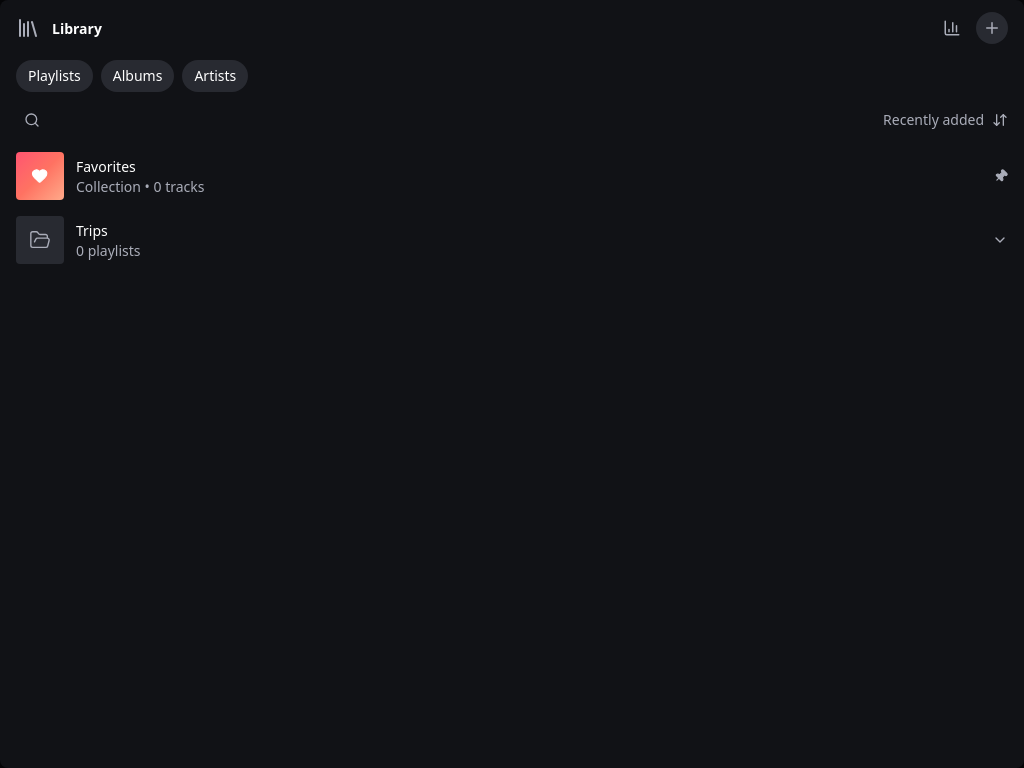
Test case: LibrarySidebar › renames a folder inline and deletes it through the context menu
Right-click the button "Trips 0 playlists" at coordinates (40, 240), box x1=8 y1=208 x2=1016 y2=272
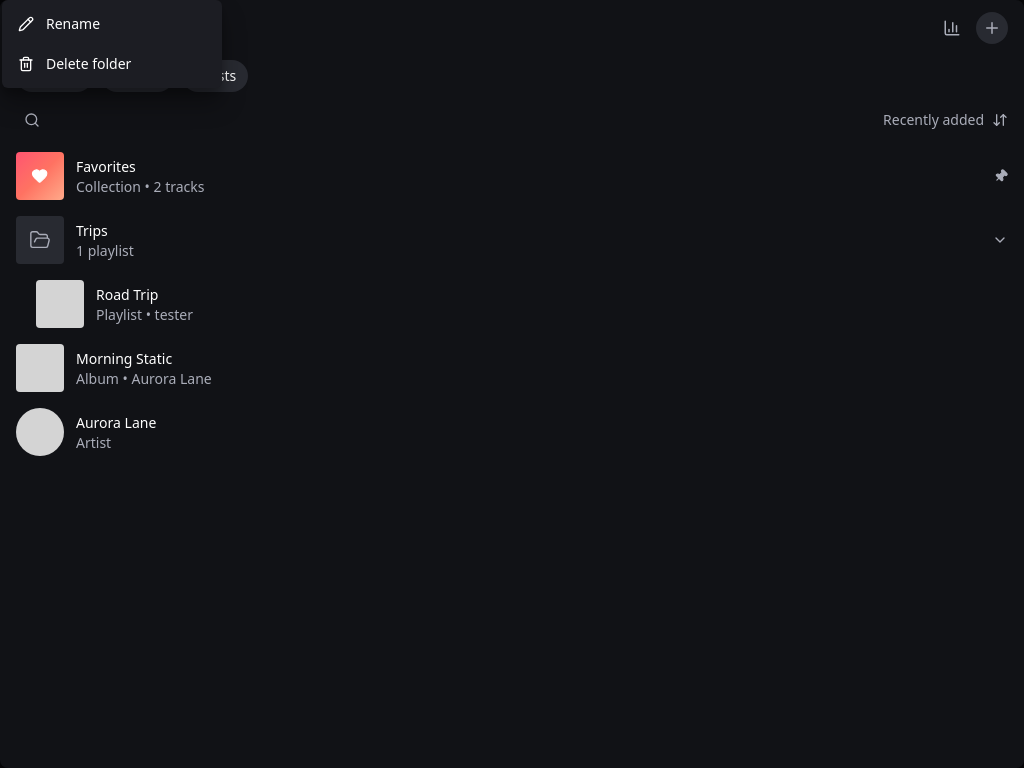
Click the menu item "Rename". click: coordinates (59, 24)
box: x1=18 y1=14 x2=100 y2=33
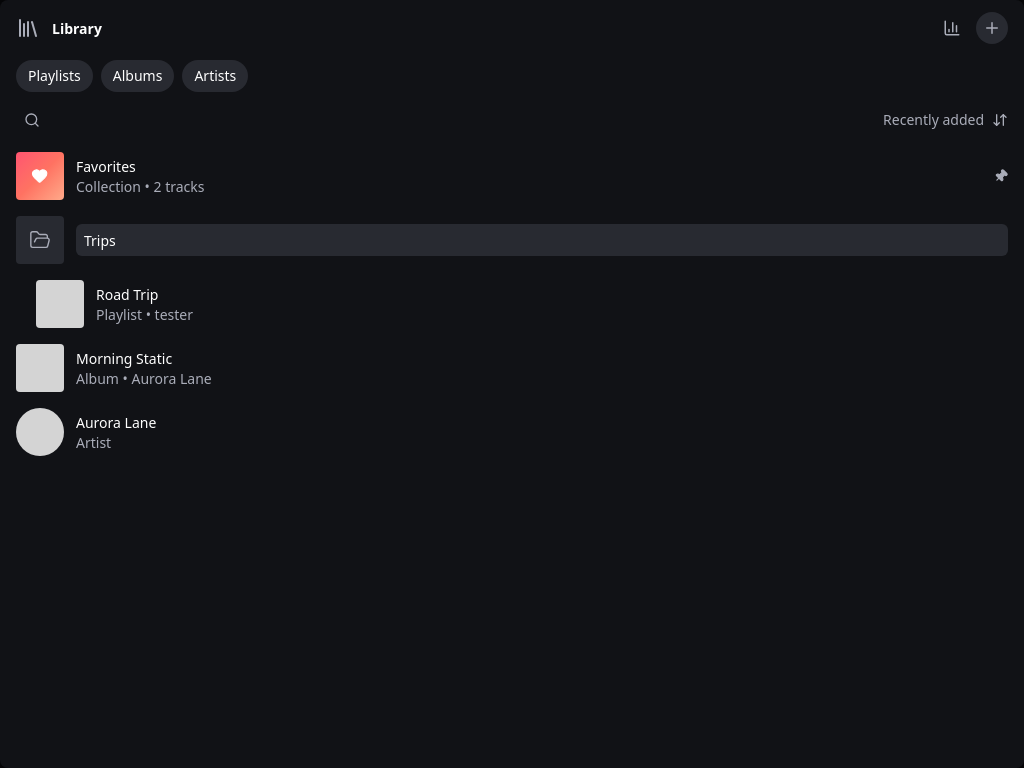
Replace the text in the field named "Folder name" with "Holidays". click: coordinates (542, 240)
box: x1=76 y1=224 x2=1008 y2=256
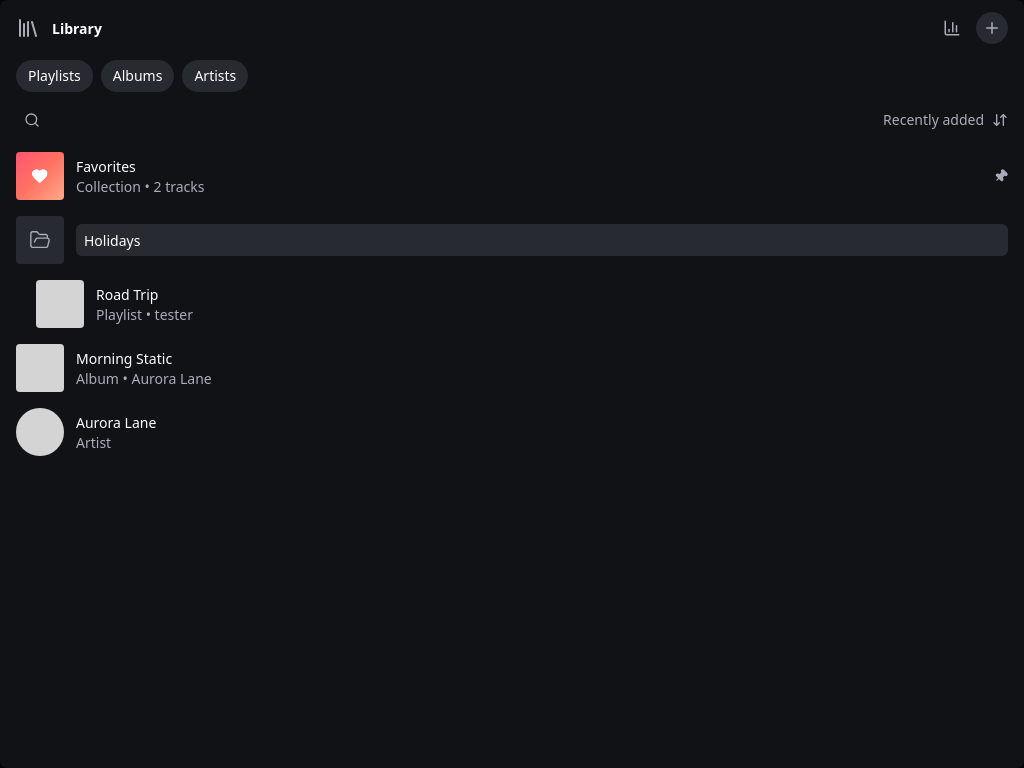
Press Enter in the field named "Folder name", box x1=76 y1=224 x2=1008 y2=256
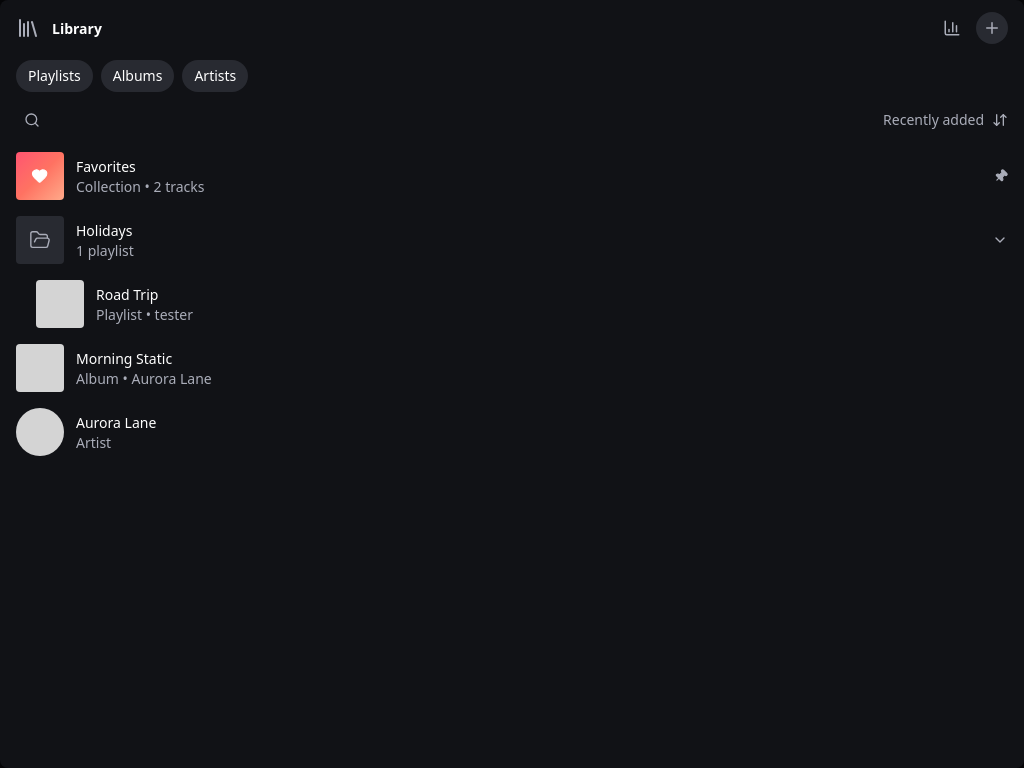
Now the button "Holidays 1 playlist" is shown
Now the text "Holidays" is shown, box x1=76 y1=220 x2=132 y2=240
Right-click the button "Holidays 1 playlist" at coordinates (40, 240), box x1=8 y1=208 x2=1016 y2=272
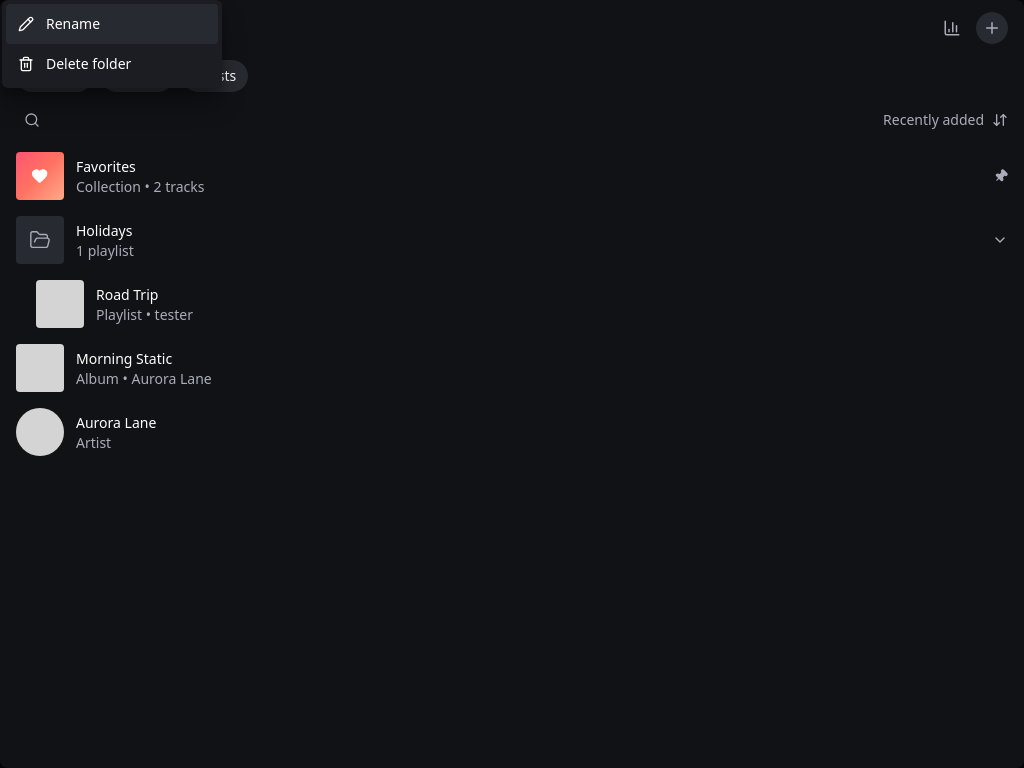
Click the menu item "Delete folder". click: coordinates (75, 64)
box: x1=18 y1=54 x2=131 y2=73
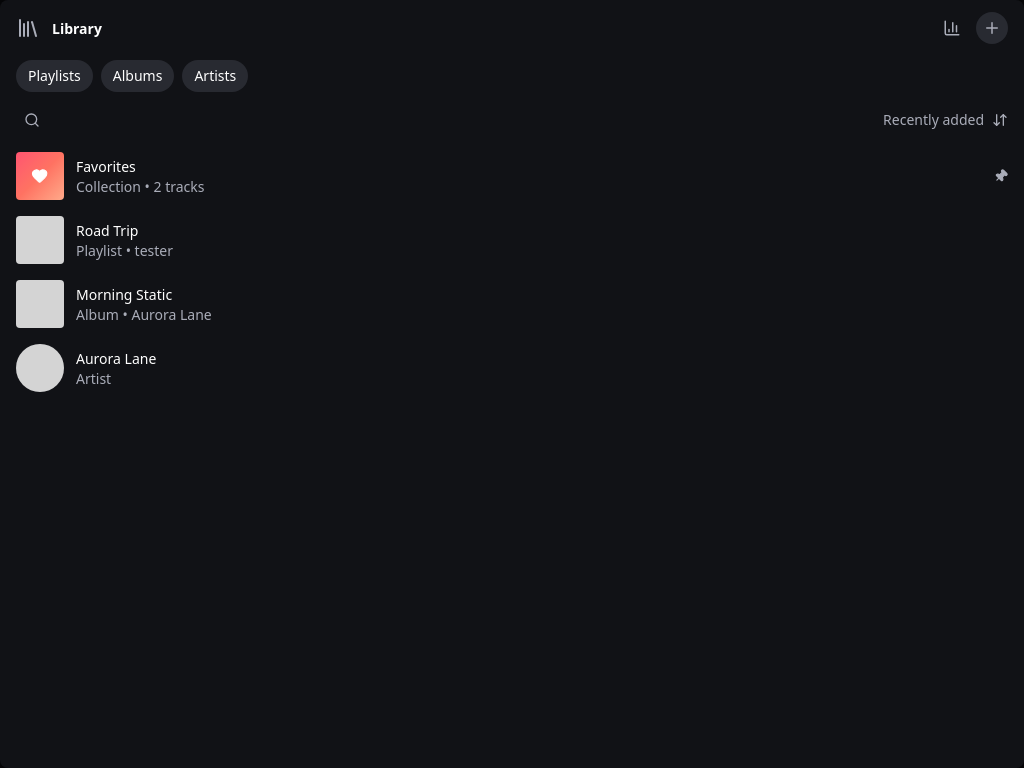
Now the text "Road Trip" is shown, box x1=76 y1=220 x2=138 y2=240
Now the button "Holidays" is gone
